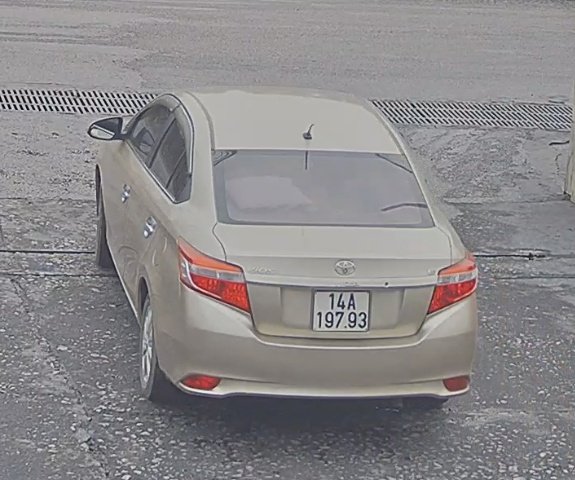vehicle plate: (308, 278, 372, 334)
